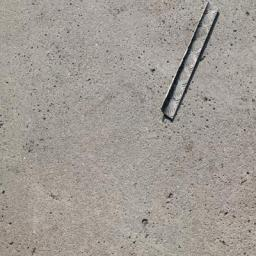FOD: (162, 2, 222, 133)
